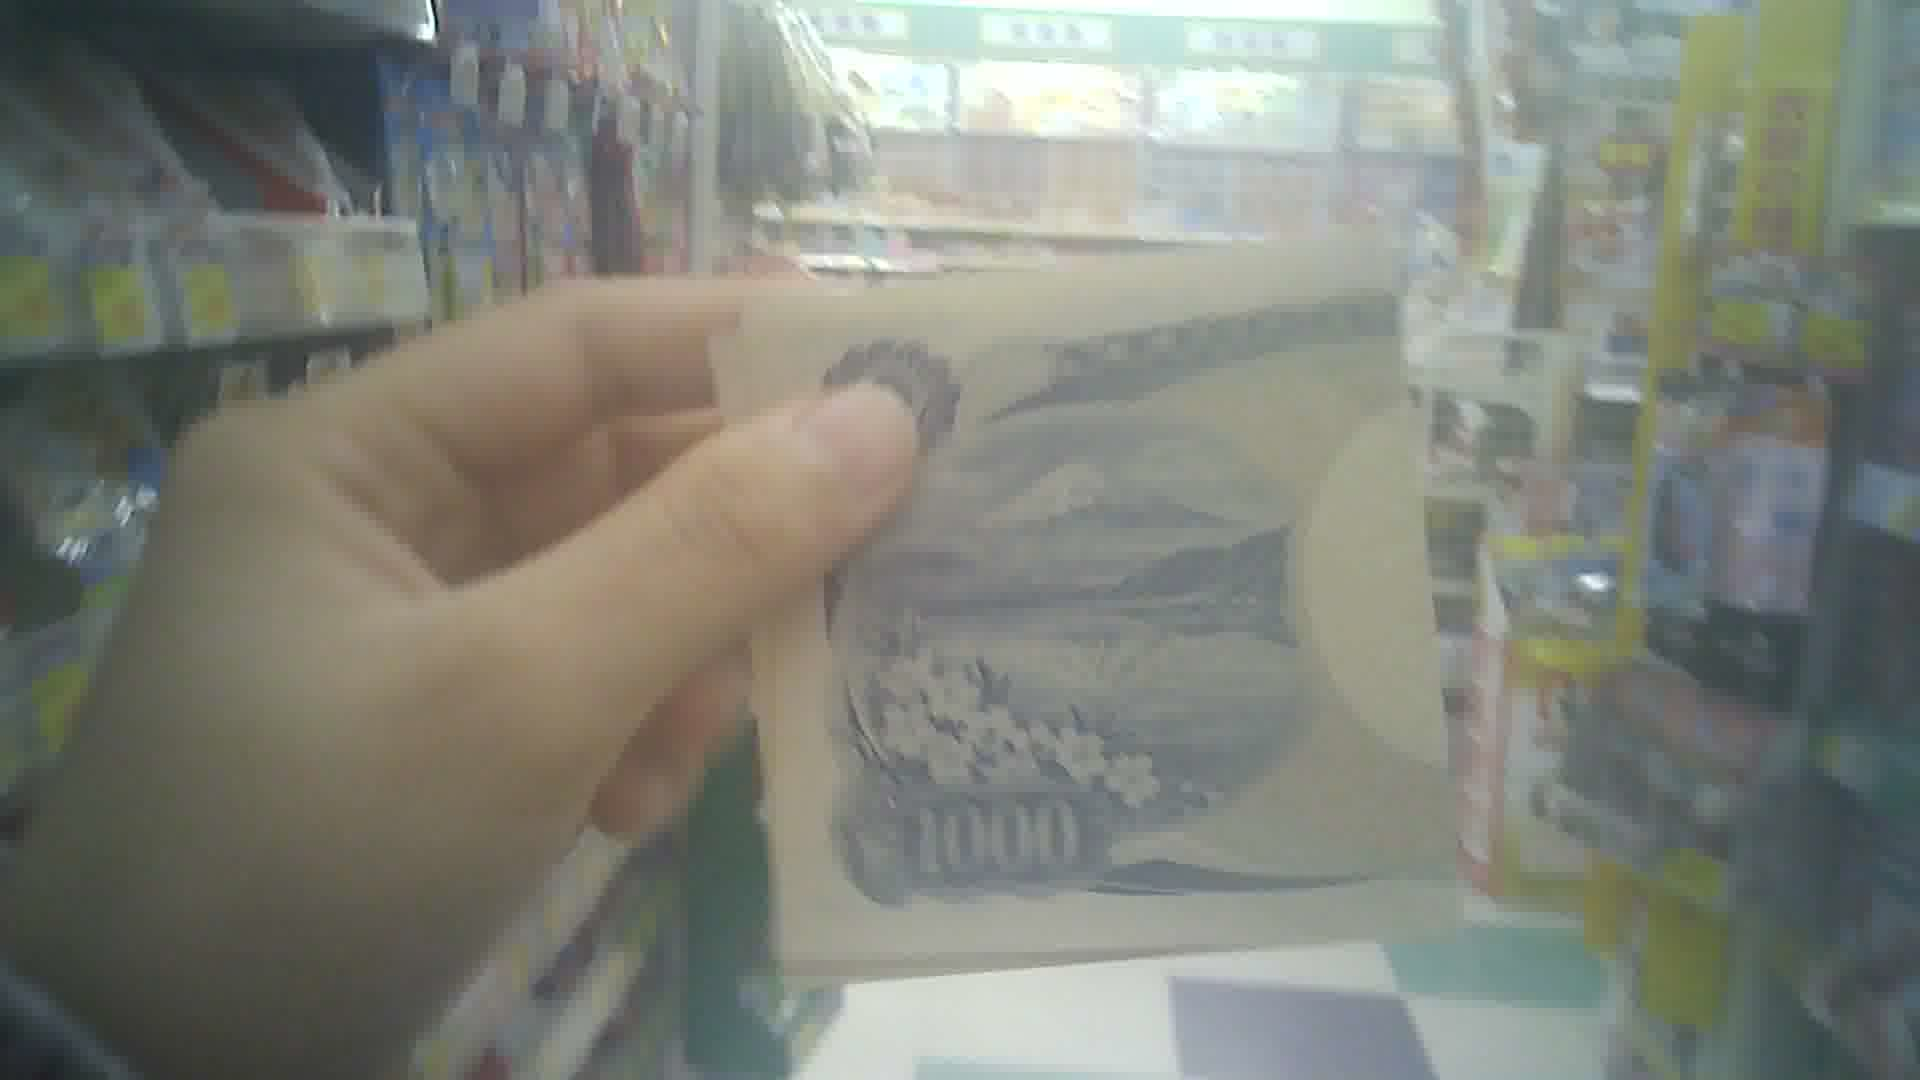1,000 Yen: (756, 261, 1472, 934)
